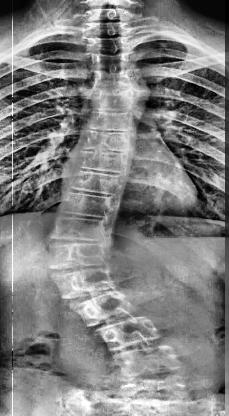Vertebrae: (50, 267, 122, 301), (97, 316, 168, 349), (114, 346, 184, 376), (66, 168, 130, 198), (72, 294, 136, 324), (47, 240, 110, 268), (49, 214, 110, 242), (58, 192, 116, 220), (80, 128, 136, 154), (86, 108, 140, 134), (74, 148, 132, 172), (84, 48, 144, 70), (89, 89, 143, 112), (93, 68, 149, 90), (82, 34, 140, 53), (79, 7, 137, 25), (80, 22, 138, 38)
